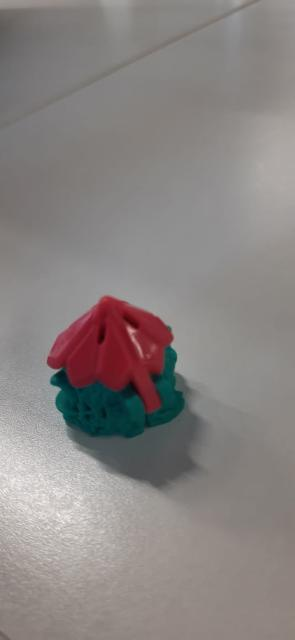House: (47, 294, 190, 438)
